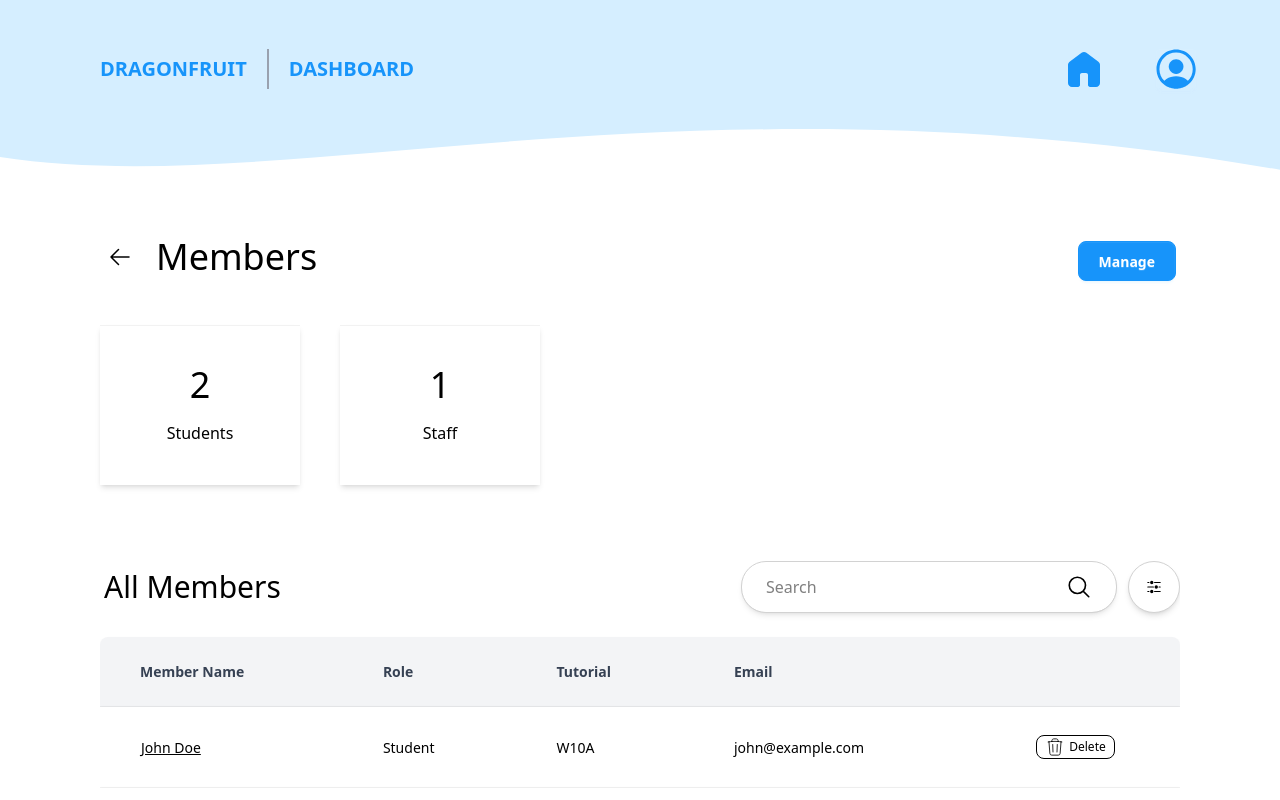
Test: AllMembers Page › should allow searching
The width and height of the screenshot is (1280, 800).
Type "Jane" into the field named "search-bar".
click(916, 587); type("Jane")  # box [766,575,1066,599]
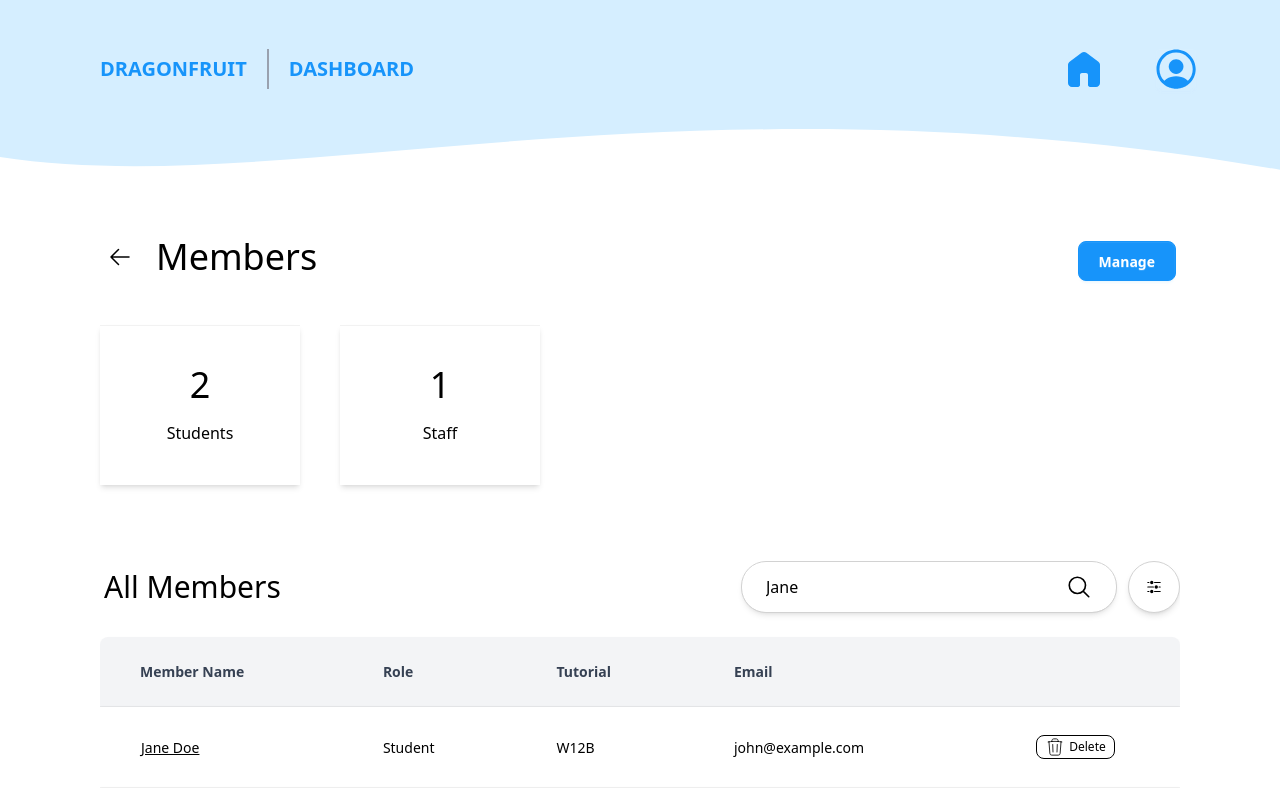
Expected: the button "John Doe" is gone
Expected: the button "Jane Doe" is shown, [140,727,200,767]
